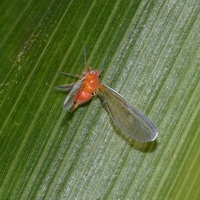insect: (55, 62, 157, 141)
